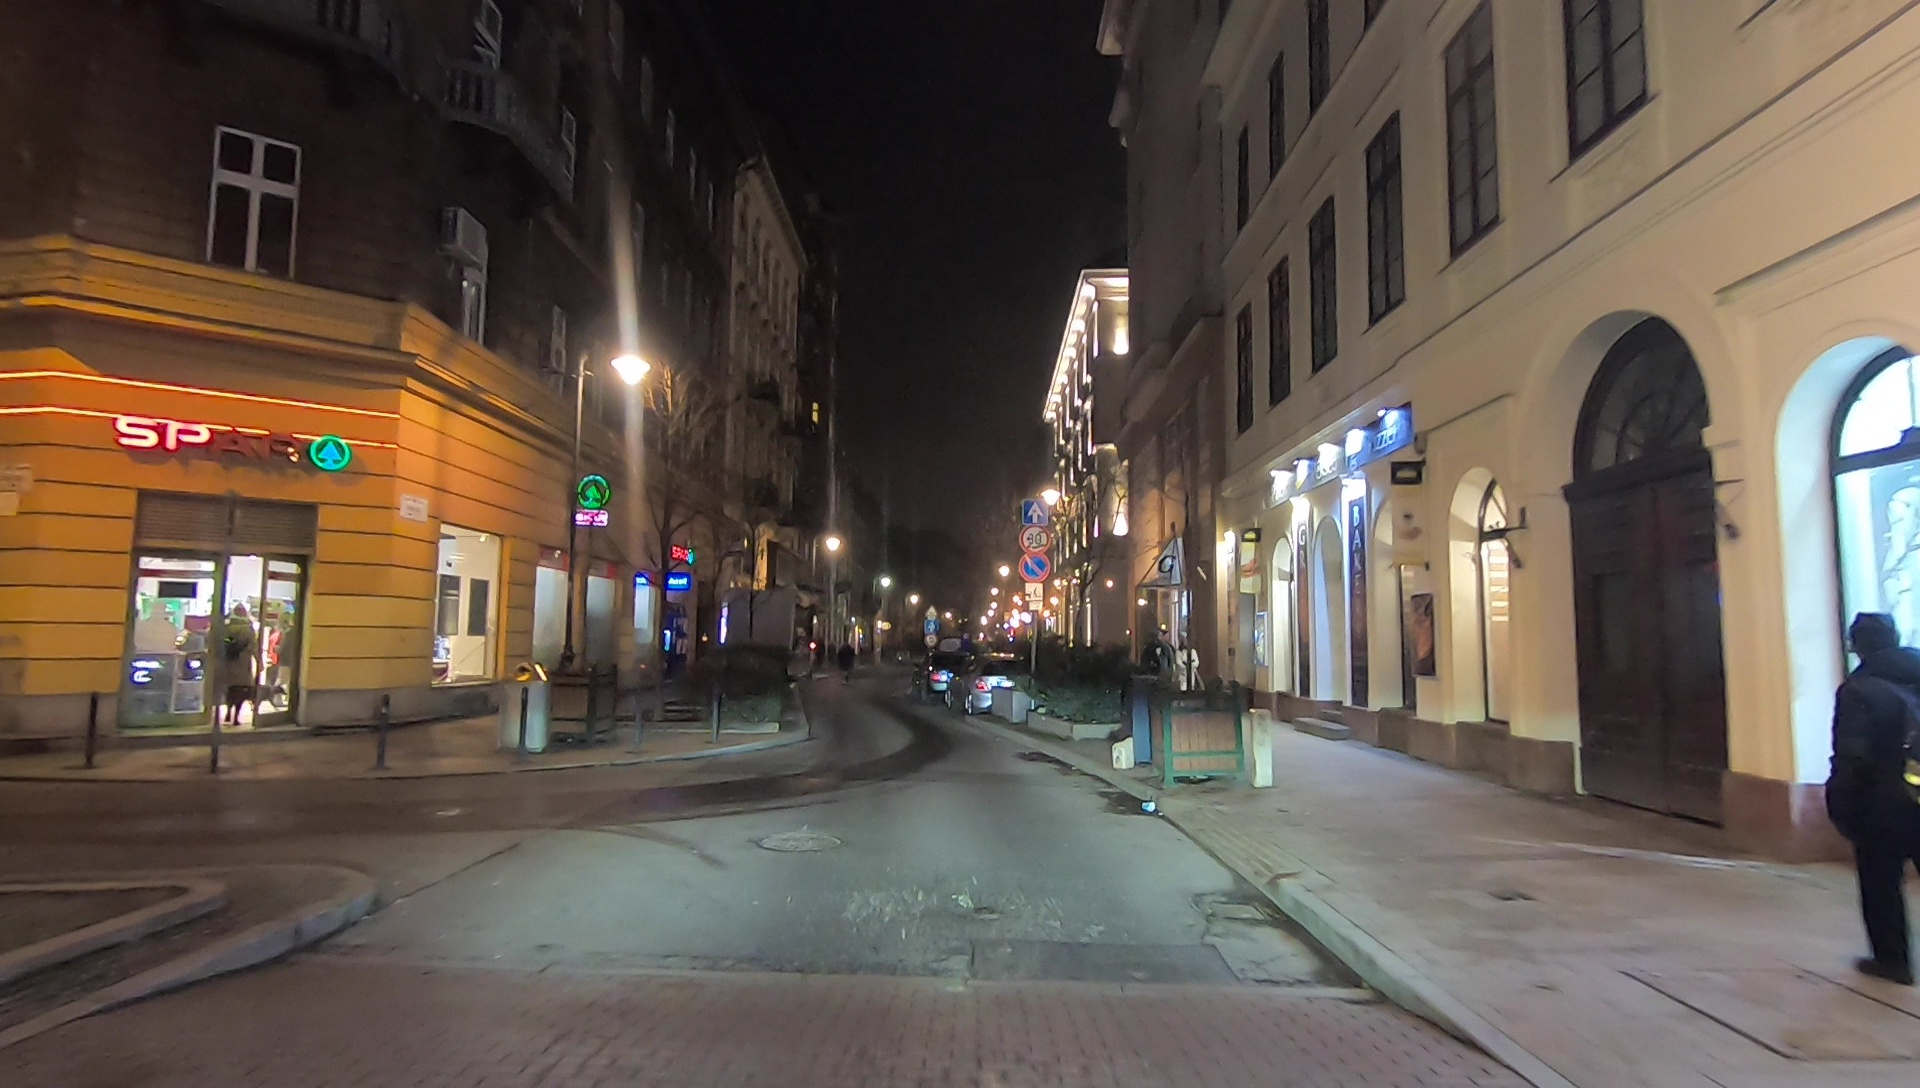person: (1825, 604, 1912, 986), (223, 604, 258, 724), (1144, 630, 1172, 693), (1179, 636, 1199, 697), (837, 635, 855, 682)
